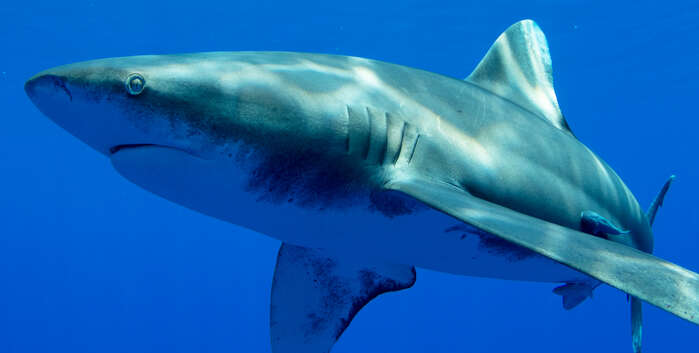shark: (30, 18, 699, 353)
